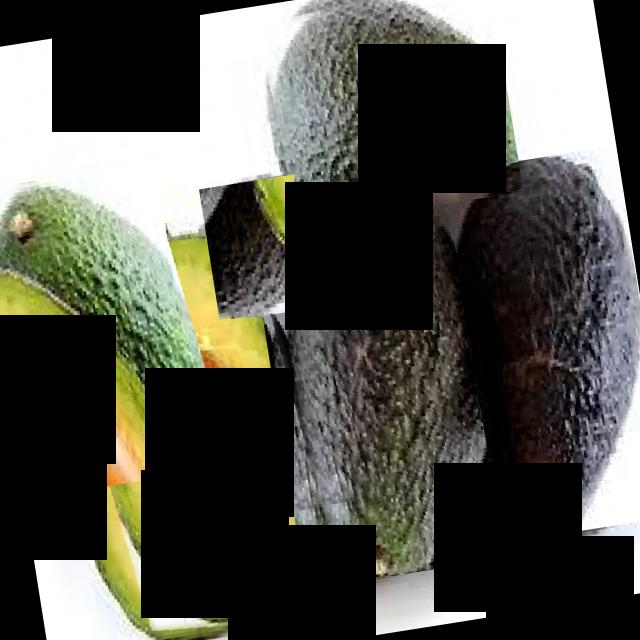avocado: (240, 169, 504, 590), (42, 229, 311, 640), (437, 145, 640, 544), (0, 158, 204, 499), (254, 0, 523, 228), (199, 174, 315, 324)
